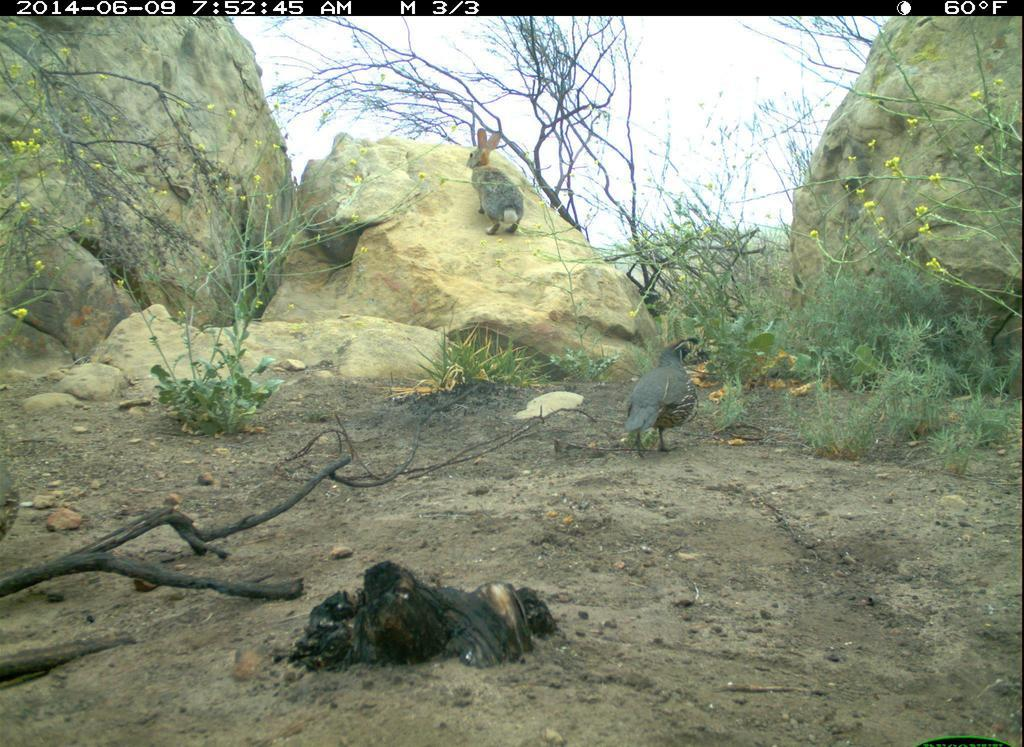bird: (615, 329, 710, 465)
